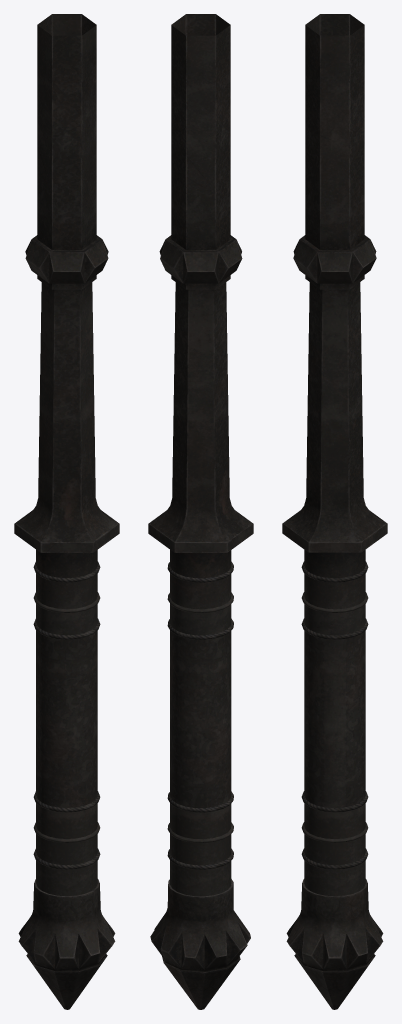
The model's file is wm_sauron_mace_handle.fbx.
3 views of the same model, side by side, from view 1: azimuth 90°, elevation 25°; view 2: azimuth 150°, elevation 25°; view 3: azimuth 270°, elevation 25° (orthographic).
Visible parts, largest first — view 1: wm_sauron_mace_handle; view 2: wm_sauron_mace_handle; view 3: wm_sauron_mace_handle.
Boxes of the visible parts, x1,y1,x2,y2 form: wm_sauron_mace_handle: (14, 14, 119, 1009); wm_sauron_mace_handle: (148, 14, 253, 1009); wm_sauron_mace_handle: (282, 14, 387, 1009).
Size of the model in its own units: 0.0681 by 0.0716 by 0.7396.
Materials: 1 (1 with a texture image).
